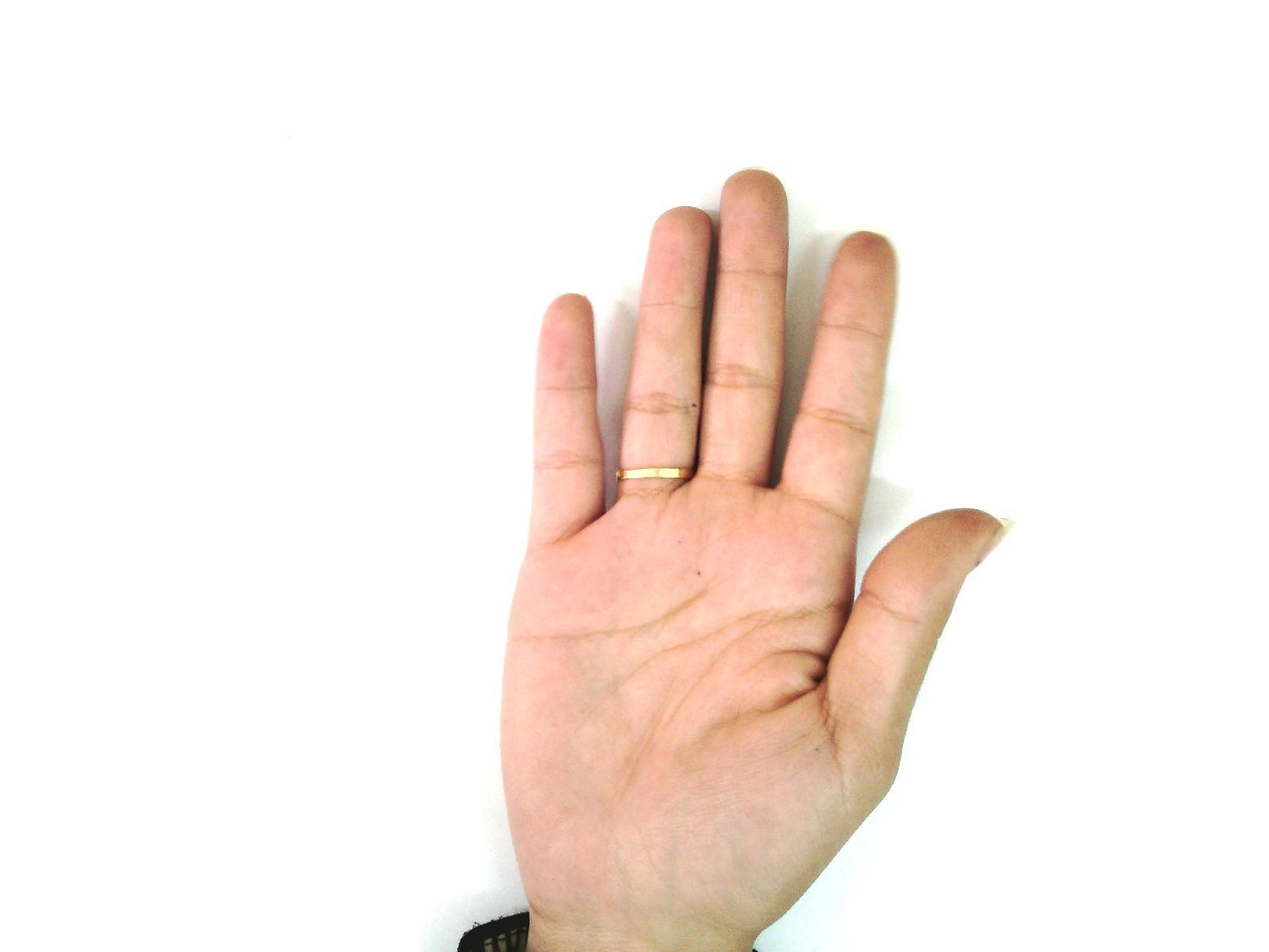open_palm: (493, 168, 1014, 950)
